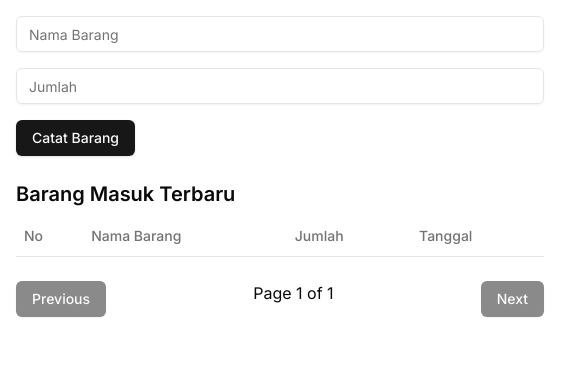
Test case: HomePage › handles form submission and updates list
The width and height of the screenshot is (561, 370).
Expected: the heading "Barang Masuk Terbaru" is shown, top-left (16, 182), bottom-right (235, 206)
Type "Buku" into the field with placeholder "Nama Barang" at (280, 34), box top-left (16, 16), bottom-right (544, 52)
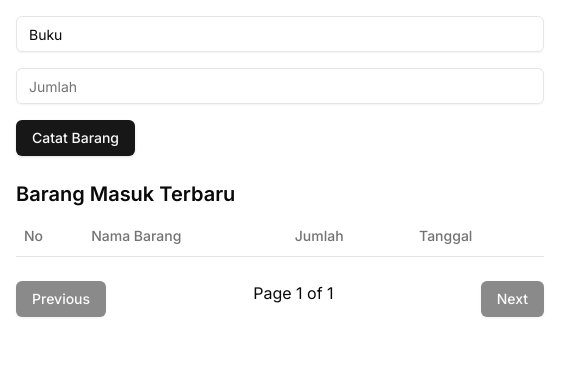
Type "5" into the number field with placeholder "Jumlah" at (280, 86), box top-left (16, 68), bottom-right (544, 104)
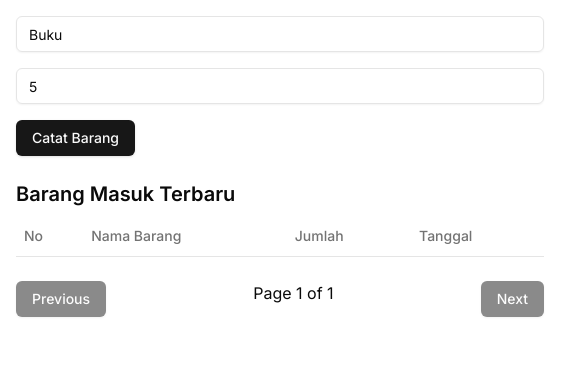
Click the button "Catat Barang" at (76, 138), box top-left (16, 120), bottom-right (135, 156)
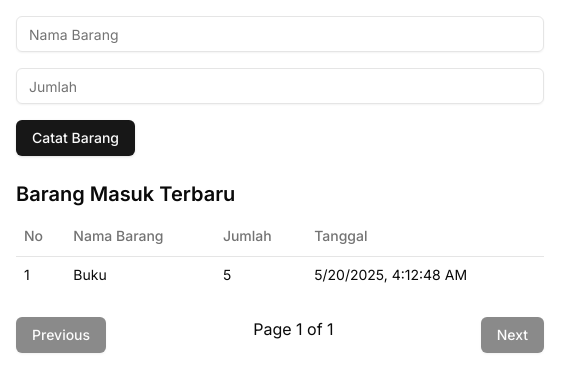
Expected: the text "Buku" is shown, top-left (65, 256), bottom-right (215, 292)
Expected: the text "5" is shown, top-left (215, 256), bottom-right (306, 292)
